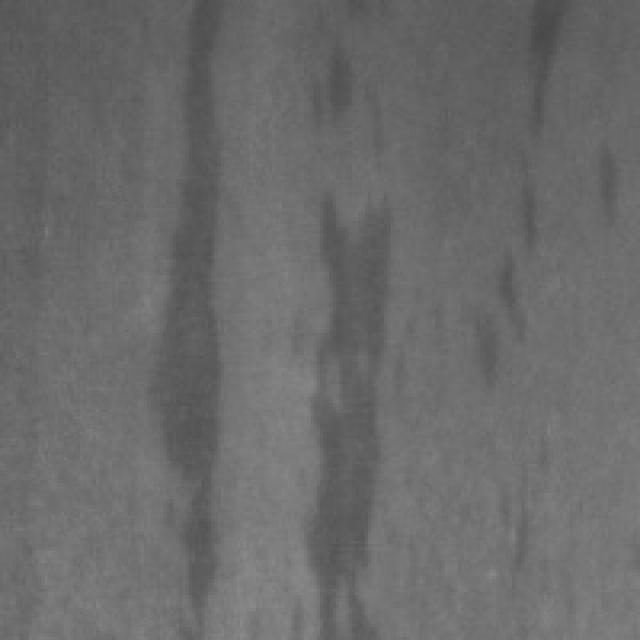inclusion: (147, 0, 230, 634), (294, 173, 394, 637), (467, 166, 538, 394), (512, 0, 570, 138), (301, 29, 355, 157), (579, 134, 627, 233)
